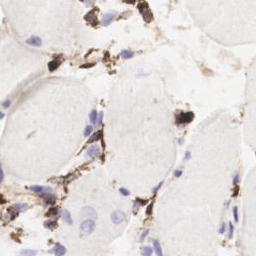nucleus: (79, 218, 98, 235), (109, 208, 127, 224), (102, 9, 116, 28), (24, 33, 42, 47), (49, 243, 67, 256), (42, 220, 61, 232), (85, 143, 101, 157), (29, 185, 53, 193), (138, 228, 151, 241), (152, 179, 165, 192), (61, 210, 73, 224), (14, 203, 30, 213), (154, 241, 164, 256), (232, 205, 240, 222), (121, 49, 135, 58), (141, 246, 153, 256), (89, 109, 96, 125), (131, 200, 142, 210), (118, 187, 130, 196), (19, 250, 37, 256), (97, 110, 104, 125), (218, 222, 226, 235), (84, 126, 93, 137), (42, 220, 53, 229), (2, 98, 10, 108), (176, 123, 187, 130), (173, 170, 182, 178), (45, 195, 57, 201), (229, 224, 234, 238), (177, 137, 185, 145), (184, 150, 191, 159), (88, 13, 96, 20), (233, 172, 238, 183), (1, 162, 3, 181), (1, 112, 4, 117)
positive_cell: (78, 127, 106, 158), (146, 182, 164, 215), (174, 109, 196, 132), (82, 5, 100, 29), (6, 205, 31, 219), (112, 48, 136, 61), (37, 195, 60, 208), (230, 173, 241, 197), (45, 206, 64, 219), (132, 197, 149, 211)
